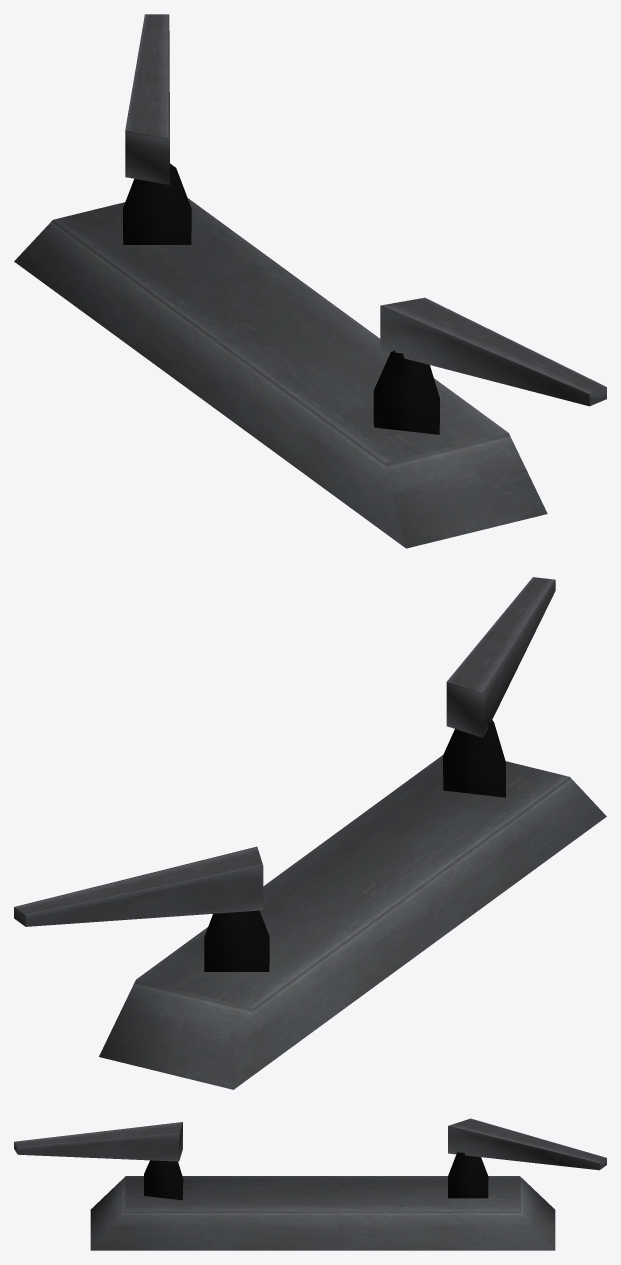
Rendered from p6_kitchen_sink_faucet_handles_lod3.glb.
3 renders of one model, top to bottom at view 1: azimuth 30°, elevation 25°; view 2: azimuth 150°, elevation 25°; view 3: azimuth 270°, elevation 25°, orthographic. The views are drawn at different scales.
Parts seen in each view (by area): view 1: surf1, surf0; view 2: surf1, surf0; view 3: surf1, surf0.
Boxes of the visible parts, x1,y1,x2,y2 form: surf1: (14,14,606,548); surf0: (123,163,439,434); surf1: (14,577,606,1089); surf0: (204,718,505,971); surf1: (14,1118,606,1250); surf0: (144,1151,488,1200).
Size of the model in its own units: 1.79 by 1.53 by 8.02.
